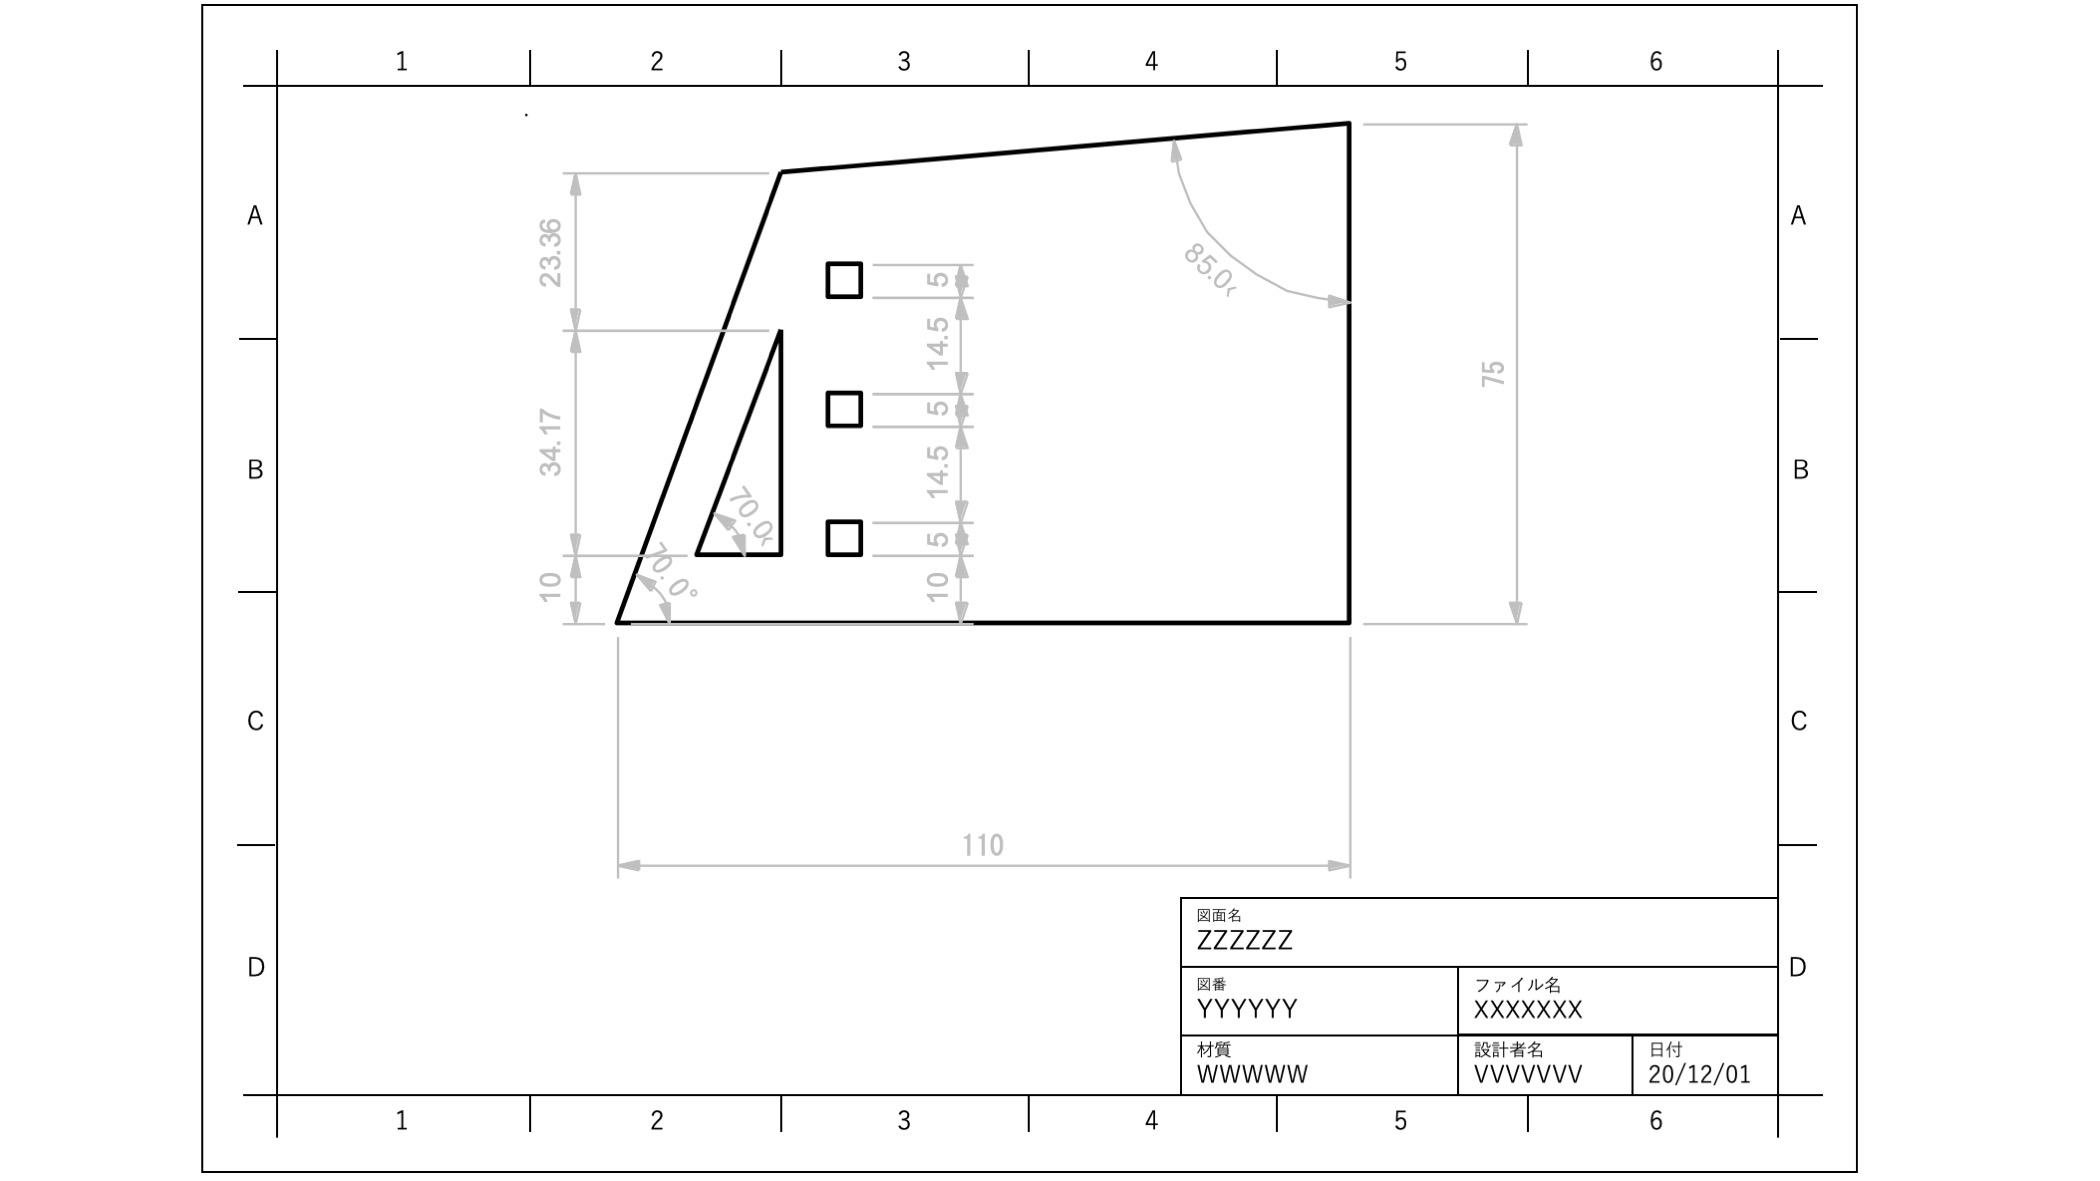rectangle: (824, 249, 873, 303), (821, 381, 870, 431), (824, 508, 867, 559)
triangle: (692, 317, 787, 559)
